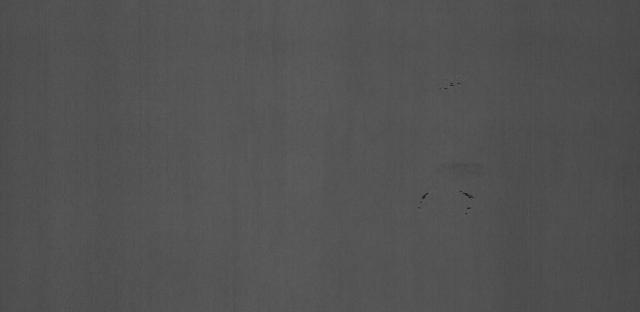inclusion: (420, 68, 476, 96), (459, 178, 483, 209), (415, 182, 434, 218)
